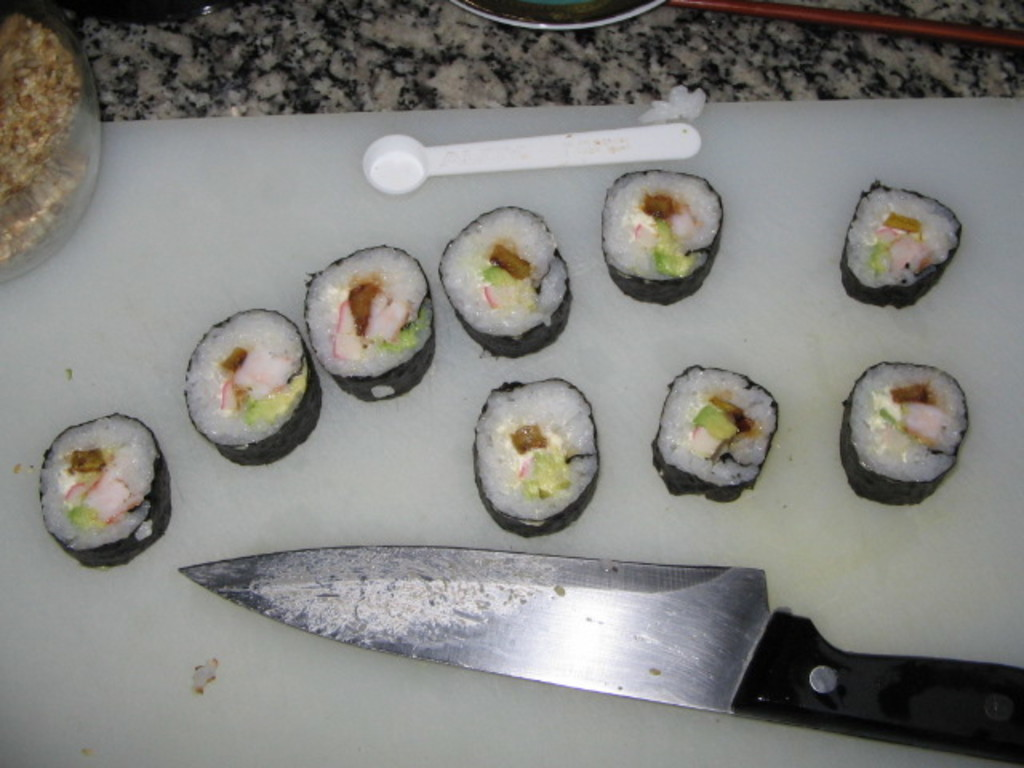sushi: (181, 310, 325, 467), (42, 413, 173, 570), (438, 205, 570, 357), (472, 378, 603, 531), (304, 243, 430, 400), (845, 358, 968, 504), (651, 360, 778, 499), (842, 178, 966, 307), (603, 166, 718, 302)
